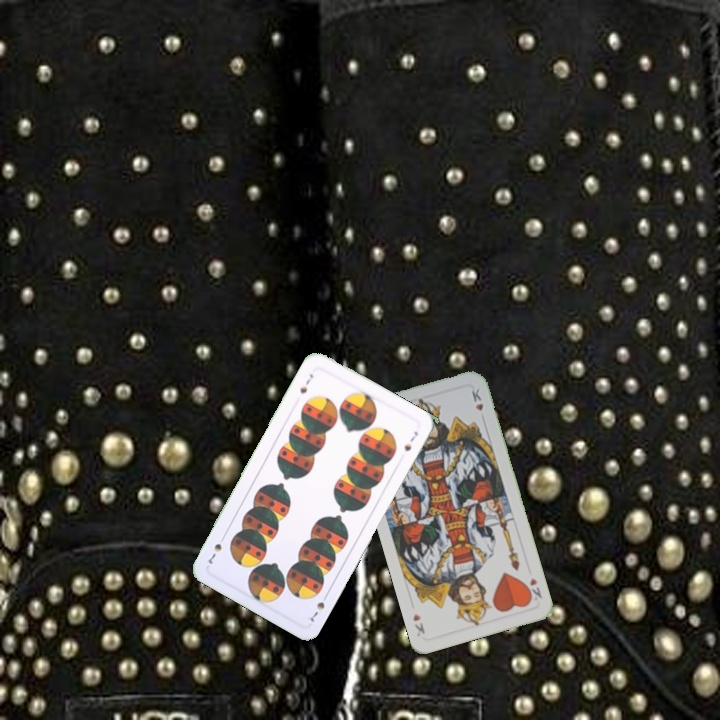HK: (522, 574, 544, 605)
S7: (306, 589, 331, 625), (296, 369, 316, 396)
